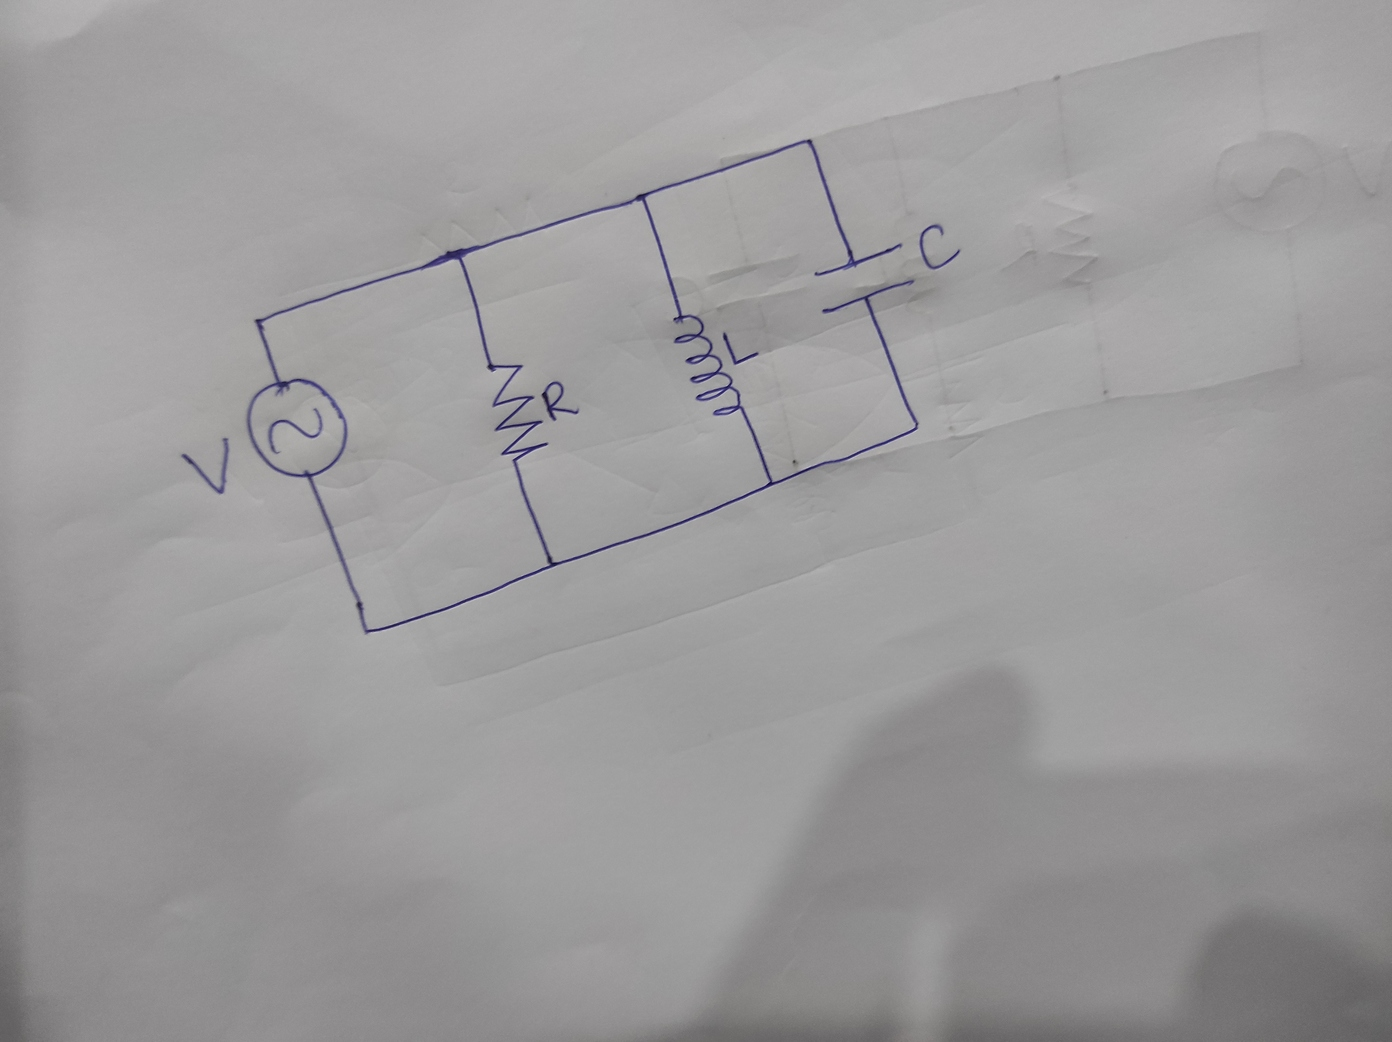capacitor.unpolarized: (810, 240, 918, 315)
inductor: (669, 313, 749, 419)
junction: (441, 238, 478, 273), (627, 182, 656, 212), (535, 549, 566, 576), (796, 130, 821, 153), (357, 620, 380, 641), (759, 472, 784, 493), (246, 313, 271, 333), (902, 415, 923, 437)
resistor: (482, 360, 552, 466)
text: (178, 433, 234, 496), (917, 222, 963, 273), (540, 378, 581, 422), (719, 329, 759, 368)
voltage.dc_ac: (241, 373, 353, 484)
